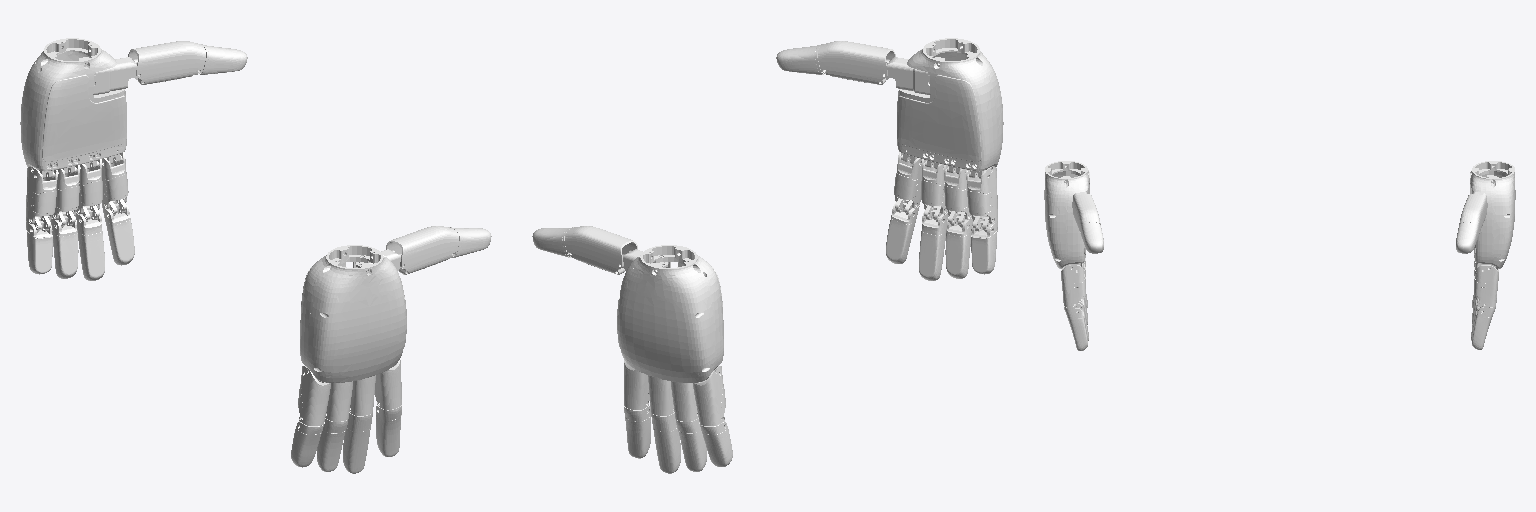
--- Render facts (derived) ---
Views: 3 orthographic renders of the robot side by side, from view 1: azimuth 30°, elevation 25°; view 2: azimuth 150°, elevation 25°; view 3: azimuth 270°, elevation 25°.
Robot: GR1T1_fourier_hand_12dof — 73 links, 72 joints (56 revolute, 16 fixed); root link base_link; default pose: all joints at 0.
Visible links, largest first — view 1: R_hand_base_link, L_hand_base_link, L_thumb_proximal_pitch_link, R_thumb_proximal_pitch_link, L_middle_intermediate_link, L_ring_intermediate_link, L_index_intermediate_link, R_pinky_proximal_link, L_pinky_proximal_link, R_middle_intermediate_link, L_pinky_intermediate_link, R_ring_intermediate_link (+11 smaller); view 2: L_hand_base_link, R_hand_base_link, R_thumb_proximal_pitch_link, L_thumb_proximal_pitch_link, R_middle_intermediate_link, R_ring_intermediate_link, R_index_intermediate_link, L_pinky_proximal_link, R_pinky_proximal_link, L_middle_intermediate_link, R_pinky_intermediate_link, L_index_intermediate_link (+11 smaller); view 3: L_hand_base_link, R_hand_base_link, R_index_proximal_link, L_index_proximal_link, R_index_intermediate_link, L_index_intermediate_link, R_thumb_proximal_pitch_link, L_thumb_proximal_pitch_link, R_thumb_distal_link, L_thumb_distal_link.
Link boxes in pixels (bbox=[...]): R_hand_base_link: bbox=[300, 245, 406, 382]; L_hand_base_link: bbox=[20, 38, 126, 178]; L_thumb_proximal_pitch_link: bbox=[128, 41, 205, 84]; R_thumb_proximal_pitch_link: bbox=[386, 226, 458, 274]; L_middle_intermediate_link: bbox=[75, 205, 104, 280]; L_ring_intermediate_link: bbox=[51, 211, 78, 278]; L_index_intermediate_link: bbox=[102, 199, 134, 265]; R_pinky_proximal_link: bbox=[298, 366, 330, 425]; L_pinky_proximal_link: bbox=[26, 166, 57, 223]; R_middle_intermediate_link: bbox=[343, 412, 372, 473]; L_pinky_intermediate_link: bbox=[26, 216, 52, 274]; R_ring_intermediate_link: bbox=[317, 418, 347, 471]; L_hand_base_link: bbox=[617, 245, 723, 382]; R_hand_base_link: bbox=[897, 38, 1003, 178]; R_thumb_proximal_pitch_link: bbox=[818, 41, 895, 84]; L_thumb_proximal_pitch_link: bbox=[565, 226, 637, 274]; R_middle_intermediate_link: bbox=[919, 205, 948, 280]; R_ring_intermediate_link: bbox=[945, 211, 972, 278]; R_index_intermediate_link: bbox=[886, 198, 919, 263]; L_pinky_proximal_link: bbox=[693, 366, 725, 425]; R_pinky_proximal_link: bbox=[966, 166, 997, 223]; L_middle_intermediate_link: bbox=[651, 412, 680, 473]; R_pinky_intermediate_link: bbox=[971, 216, 997, 274]; L_index_intermediate_link: bbox=[624, 405, 650, 458]; L_hand_base_link: bbox=[1470, 161, 1515, 268]; R_hand_base_link: bbox=[1044, 161, 1089, 268]; R_index_proximal_link: bbox=[1061, 263, 1085, 307]; L_index_proximal_link: bbox=[1474, 263, 1498, 307]; R_index_intermediate_link: bbox=[1064, 301, 1087, 350]; L_index_intermediate_link: bbox=[1472, 300, 1495, 349]; R_thumb_proximal_pitch_link: bbox=[1072, 194, 1100, 233]; L_thumb_proximal_pitch_link: bbox=[1459, 194, 1487, 233]; R_thumb_distal_link: bbox=[1081, 221, 1103, 253]; L_thumb_distal_link: bbox=[1456, 221, 1478, 253].
Bounding box of the posed robot: 0.1911 × 0.5014 × 0.2001 m (x, y, z).
Meshes: 61 distinct files referenced, 26 mesh visuals loaded (26 binary STL); not drawn: 35 (file found but could not be loaded).

robot.urdf — GR1T1_fourier_hand_12dof:
<?xml version="1.0" encoding="utf-8"?>

<!-- 02282025-alpha-1 -->

<robot
  name="GR1T1_fourier_hand_12dof">
  <link
    name="base_link">
    <inertial>
      <origin
        xyz="-0.06584 -9.765E-5 -0.01434"
        rpy="0 0 0" />
      <mass
        value="3.84" />
      <inertia
        ixx="0.03190"
        ixy="-3.35E-6"
        ixz="-0.001722"
        iyy="0.01048"
        iyz="-1.394E-5"
        izz="0.03496" />
    </inertial>
    <visual>
      <origin
        xyz="0 0 0"
        rpy="0 0 0" />
      <geometry>
        <mesh
          filename="../meshes/gr1t1/base_link.STL" />
      </geometry>
      <material
        name="">
        <color
          rgba="0.752941176470588 0.752941176470588 0.752941176470588 1" />
      </material>
    </visual>
    <collision name="base_link.STL">
      <origin xyz="-0.0425828586396115 0.0003700415157537537 0.009210089875386126" rpy="-1.5715560967510487 0.006752722386712318 -0.006757854813246755"/>
      <geometry>
        <cylinder radius="0.12239433188500067" length="0.1371007021179978"/>
      </geometry>
    </collision>
  </link>
  <link
    name="left_thigh_roll_link">
    <inertial>
      <origin
        xyz="-0.0327 9.169E-5 0.002323"
        rpy="0 0 0" />
      <mass
        value="1.45" />
      <inertia
        ixx="0.001545"
        ixy="8.2E-7"
        ixz="-2.999E-5"
        iyy="0.002427"
        iyz="-7.46E-6"
        izz="0.002505" />
    </inertial>
    <visual>
      <origin
        xyz="0 0 0"
        rpy="0 0 0" />
      <geometry>
        <mesh
          filename="../meshes/gr1t1/left_thigh_roll_link.STL" />
      </geometry>
      <material
        name="">
        <color
          rgba="0.752941176470588 0.752941176470588 0.752941176470588 1" />
      </material>
    </visual>
    <!-- <collision>
      <origin
        xyz="0 0 0"
        rpy="0 0 0" />
      <geometry>
        <mesh
          filename="../meshes/gr1t1/left_thigh_roll_link.STL" />
      </geometry>
    </collision> -->
  </link>
  <joint
    name="left_hip_roll_joint"
    type="revolute">
    <origin
      xyz="-0.0025 0.105 -0.0276"
      rpy="0 0 0" />
    <parent
      link="base_link" />
    <child
      link="left_thigh_roll_link" />
    <axis
      xyz="1 0 0" />
    <limit
      lower="-0.09"
      upper="0.79"
      effort="48"
      velocity="12.15" />
  </joint>
  <link
    name="left_thigh_yaw_link">
    <inertial>
      <origin
        xyz="-0.00019288 0.03547 -0.1073"
        rpy="0 0 0" />
      <mass
        value="3.17" />
      <inertia
        ixx="0.01555"
        ixy="-0.0001138"
        ixz="0.0001964"
        iyy="0.01777"
        iyz="0.003461"
        izz="0.006507" />
    </inertial>
    <visual>
      <origin
        xyz="0 0 0"
        rpy="0 0 0" />
      <geometry>
        <mesh
          filename="../meshes/gr1t1/left_thigh_yaw_link.STL" />
      </geometry>
      <material
        name="">
        <color
          rgba="0.752941176470588 0.752941176470588 0.752941176470588 1" />
      </material>
    </visual>
    <!-- <collision>
      <origin
        xyz="0 0 0"
        rpy="0 0 0" />
      <geometry>
        <mesh
          filename="../meshes/gr1t1/left_thigh_yaw_link.STL" />
      </geometry>
    </collision> -->
  </link>
  <joint
    name="left_hip_yaw_joint"
    type="revolute">
    <origin
      xyz="0 0 0"
      rpy="0 0 0" />
    <parent
      link="left_thigh_roll_link" />
    <child
      link="left_thigh_yaw_link" />
    <axis
      xyz="0 0 1" />
    <limit
      lower="-0.7"
      upper="0.7"
      effort="66"
      velocity="16.76" />
  </joint>
  <link
    name="left_thigh_pitch_link">
    <inertial>
      <origin
        xyz="0.001419 -0.02869 -0.05999"
        rpy="0 0 0" />
      <mass
        value="7.99" />
      <inertia
        ixx="0.07222"
        ixy="-7.201e-5"
        ixz="0.001533"
        iyy="0.07244"
        iyz="-0.003014"
        izz="0.02139" />
    </inertial>
    <visual>
      <origin
        xyz="0 0 0"
        rpy="0 0 0" />
      <geometry>
        <mesh
          filename="../meshes/gr1t1/left_thigh_pitch_link.STL" />
      </geometry>
      <material
        name="">
        <color
          rgba="0.752941176470588 0.752941176470588 0.752941176470588 1" />
      </material>
    </visual>
    <collision name="left_thigh_pitch_link.STL">
      <origin xyz="0.0007000513673618543 -0.03015965784976181 -0.1670560397414535" rpy="0 0 0 "/>
      <geometry>
        <cylinder radius="0.08587689590118133" length="0.24982894507630515"/>
      </geometry>
    </collision>
  </link>
  <joint
    name="left_hip_pitch_joint"
    type="revolute">
    <origin
      xyz="0 0.0223 -0.1405"
      rpy="0 0 0" />
    <parent
      link="left_thigh_yaw_link" />
    <child
      link="left_thigh_pitch_link" />
    <axis
      xyz="0 1 0" />
    <limit
      lower="-1.75"
      upper="0.7"
      effort="225"
      velocity="37.38" />
  </joint>
  <link
    name="left_shank_pitch_link">
    <inertial>
      <origin
        xyz="0.001724 -3.024E-5 -0.1128"
        rpy="0 0 0" />
      <mass
        value="1.93" />
      <inertia
        ixx="0.009915"
        ixy="-2.24E-6"
        ixz="-1.716E-5"
        iyy="0.009913"
        iyz="-0.0001199"
        izz="0.0009499" />
    </inertial>
    <visual>
      <origin
        xyz="0 0 0"
        rpy="0 0 0" />
      <geometry>
        <mesh
          filename="../meshes/gr1t1/left_shank_pitch_link.STL" />
      </geometry>
      <material
        name="">
        <color
          rgba="0.752941176470588 0.752941176470588 0.752941176470588 1" />
      </material>
    </visual>
    <collision name="left_shank_pitch_link.STL">
      <origin xyz="-1.659010853856773e-05 -0.000842546786771745 -0.17469107292397335" rpy="-3.1410836913690487 0.0024586308191354433 -2.733338485212507"/>
      <geometry>
        <cylinder radius="0.05332138187428352" length="0.18076995129198576"/>
      </geometry>
    </collision>
  </link>
  <joint
    name="left_knee_pitch_joint"
    type="revolute">
    <origin
      xyz="0 -0.0213 -0.36"
      rpy="0 0 0" />
    <parent
      link="left_thigh_pitch_link" />
    <child
      link="left_shank_pitch_link" />
    <axis
      xyz="0 1 0" />
    <limit
      lower="-0.09"
      upper="1.92"
      effort="225"
      velocity="37.38" />
  </joint>
  <link
    name="left_foot_pitch_link">
    <inertial>
      <origin
        xyz="0.0284 0.00121 -0.0293"
        rpy="0 0 0" />
      <mass
        value="0.538" />
      <inertia
        ixx="0.000394"
        ixy="-9.64E-6"
        ixz="0.000173"
        iyy="0.00232"
        iyz="4.36E-6"
        izz="0.002474" />
    </inertial>
    <visual>
      <origin
        xyz="0 0 0"
        rpy="0 0 0" />
      <geometry>
        <mesh
          filename="../meshes/gr1t1/left_foot_pitch_link.STL" />
      </geometry>
      <material
        name="">
        <color
          rgba="0.752941176470588 0.752941176470588 0.752941176470588 1" />
      </material>
    </visual>
    <!-- <collision>
      <origin
        xyz="0 0 0"
        rpy="0 0 0" />
      <geometry>
        <mesh
          filename="../meshes/gr1t1/left_foot_pitch_link.STL" />
      </geometry>
    </collision> -->
  </link>
  <joint
    name="left_ankle_pitch_joint"
    type="revolute">
    <origin
      xyz="0 0 -0.34"
      rpy="0 0 0" />
    <parent
      link="left_shank_pitch_link" />
    <child
      link="left_foot_pitch_link" />
    <axis
      xyz="0 1 0" />
    <limit
      lower="-1.05"
      upper="0.52"
      effort="15"
      velocity="20.32" />
  </joint>
  <link
    name="left_foot_roll_link">
    <inertial>
      <origin
        xyz="0.0284 0.00121 -0.0293"
        rpy="0 0 0" />
      <mass
        value="0.538" />
      <inertia
        ixx="0.000394"
        ixy="-9.64E-6"
        ixz="0.000173"
        iyy="0.00232"
        iyz="4.36E-6"
        izz="0.002474" />
    </inertial>
    <visual>
      <origin
        xyz="0 0 0"
        rpy="0 0 0" />
      <geometry>
        <mesh
          filename="../meshes/gr1t1/left_foot_roll_link.STL" />
      </geometry>
      <material
        name="">
        <color
          rgba="0.752941176470588 0.752941176470588 0.752941176470588 1" />
      </material>
    </visual>
    <collision name="l_foot_1">
      <origin rpy="0 1.5708 0" xyz="0.05 0.02 -0.035" />
      <geometry>
        <cylinder length="0.24" radius="0.02" />
      </geometry>
    </collision>
    <collision name="l_foot_2">
      <origin rpy="0 1.5708 0" xyz="0.05 -0.02 -0.035" />
      <geometry>
        <cylinder length="0.24" radius="0.02" />
      </geometry>
    </collision>
  </link>
  <joint
    name="left_ankle_roll_joint"
    type="revolute">
    <origin
      xyz="0 0 0"
      rpy="0 0 0" />
    <parent
      link="left_foot_pitch_link" />
    <child
      link="left_foot_roll_link" />
    <axis
      xyz="1 0 0" />
    <limit
      lower="-0.44"
      upper="0.44"
      effort="30"
      velocity="20.32" />
  </joint>
  <link
    name="right_thigh_roll_link">
    <inertial>
      <origin
        xyz="-0.0325 -7.432E-5 0.002322"
        rpy="0 0 0" />
      <mass
        value="1.45" />
      <inertia
        ixx="0.001545"
        ixy="8.68E-6"
        ixz="-3.071E-5"
        iyy="0.002445"
        iyz="7.47E-6"
        izz="0.002523" />
    </inertial>
    <visual>
      <origin
        xyz="0 0 0"
        rpy="0 0 0" />
      <geometry>
        <mesh
          filename="../meshes/gr1t1/right_thigh_roll_link.STL" />
      </geometry>
      <material
        name="">
        <color
          rgba="0.752941176470588 0.752941176470588 0.752941176470588 1" />
      </material>
    </visual>
    <!-- <collision>
      <origin
        xyz="0 0 0"
        rpy="0 0 0" />
      <geometry>
        <mesh
          filename="../meshes/gr1t1/right_thigh_roll_link.STL" />
      </geometry>
    </collision> -->
  </link>
  <joint
    name="right_hip_roll_joint"
    type="revolute">
    <origin
      xyz="-0.0025 -0.105 -0.0276"
      rpy="0 0 0" />
    <parent
      link="base_link" />
    <child
      link="right_thigh_roll_link" />
    <axis
      xyz="1 0 0" />
    <limit
      lower="-0.79"
      upper="0.09"
      effort="48"
      velocity="12.15" />
  </joint>
  <link
    name="right_thigh_yaw_link">
    <inertial>
      <origin
        xyz="-0.0001289 -0.03547 -0.1132"
        rpy="0 0 0" />
      <mass
        value="3.17" />
      <inertia
        ixx="0.01555"
        ixy="8.397E-5"
        ixz="5.579E-5"
        iyy="0.01777"
        iyz="-0.003462"
        izz="0.006503" />
    </inertial>
    <visual>
      <origin
        xyz="0 0 0"
        rpy="0 0 0" />
      <geometry>
        <mesh
          filename="../meshes/gr1t1/right_thigh_yaw_link.STL" />
      </geometry>
      <material
        name="">
        <color
          rgba="0.752941176470588 0.752941176470588 0.752941176470588 1" />
      </material>
    </visual>
    <!-- <collision>
      <origin
        xyz="0 0 0"
        rpy="0 0 0" />
      <geometry>
        <mesh
          filename="../meshes/gr1t1/right_thigh_yaw_link.STL" />
      </geometry>
    </collision> -->
  </link>
  <joint
    name="right_hip_yaw_joint"
    type="revolute">
    <origin
      xyz="0 0 0"
      rpy="0 0 0" />
    <parent
      link="right_thigh_roll_link" />
    <child
      link="right_thigh_yaw_link" />
    <axis
      xyz="0 0 1" />
    <limit
      lower="-0.7"
      upper="0.7"
      effort="66"
      velocity="16.76" />
  </joint>
  <link
    name="right_thigh_pitch_link">
    <inertial>
      <origin
        xyz="0.00151 0.02868 -0.0598"
        rpy="0 0 0" />
      <mass
        value="7.99" />
      <inertia
        ixx="0.07228"
        ixy="5.837E-5"
        ixz="0.001505"
        iyy="0.07250"
        iyz="0.002950"
        izz="0.0214" />
    </inertial>
    <visual>
      <origin
        xyz="0 0 0"
        rpy="0 0 0" />
      <geometry>
        <mesh
          filename="../meshes/gr1t1/right_thigh_pitch_link.STL" />
      </geometry>
      <material
        name="">
        <color
          rgba="0.752941176470588 0.752941176470588 0.752941176470588 1" />
      </material>
    </visual>
    <collision name="right_thigh_pitch_link.STL">
      <origin xyz="-0.0021232671369708286 0.0301596122658223 -0.16705638592" rpy="0.005397062281218166 0.014125499755146664 3.8118827309907216e-05"/>
      <geometry>
        <cylinder radius="0.0858779947877418" length="0.24982123520352716"/>
      </geometry>
    </collision>
  </link>
  <joint
    name="right_hip_pitch_joint"
    type="revolute">
    <origin
      xyz="0 -0.0223 -0.1405"
      rpy="0 0 0" />
    <parent
      link="right_thigh_yaw_link" />
    <child
      link="right_thigh_pitch_link" />
    <axis
      xyz="0 1 0" />
    <limit
      lower="-1.75"
      upper="0.7"
      effort="225"
      velocity="37.38" />
  </joint>
  <link
    name="right_shank_pitch_link">
    <inertial>
      <origin
        xyz="0.00172 3.024E-5 -0.1128"
        rpy="0 0 0" />
      <mass
        value="1.93" />
      <inertia
        ixx="0.009905"
        ixy="2.58E-6"
        ixz="-5.473E-5"
        iyy="0.009913"
        iyz="0.0001198"
        izz="0.0009603" />
    </inertial>
    <visual>
      <origin
        xyz="0 0 0"
        rpy="0 0 0" />
      <geometry>
        <mesh
          filename="../meshes/gr1t1/right_shank_pitch_link.STL" />
      </geometry>
      <material
        name="">
        <color
          rgba="0.752941176470588 0.752941176470588 0.752941176470588 1" />
      </material>
    </visual>
    <collision name="right_shank_pitch_link.STL">
      <origin xyz="-1.6590107921902e-5 -0.000842557381796573 -0.17469872467626" rpy="0 0 0"/>
      <geometry>
        <cylinder radius="0.053321055277056" length="0.180768239886"/>
      </geometry>
    </collision>
  </link>
  <joint
    name="right_knee_pitch_joint"
    type="revolute">
    <origin
      xyz="0 0.0213 -0.36"
      rpy="0 0 0" />
    <parent
      link="right_thigh_pitch_link" />
    <child
      link="right_shank_pitch_link" />
    <axis
      xyz="0 1 0" />
    <limit
      lower="-0.09"
      upper="1.92"
      effort="225"
      velocity="37.38" />
  </joint>
  <link
    name="right_foot_pitch_link">
    <inertial>
      <origin
        xyz="0.0284 -0.00121 -0.0293"
        rpy="0 0 0" />
      <mass
        value="0.538" />
      <inertia
        ixx="0.000394"
        ixy="9.6E-6"
        ixz="0.000173"
        iyy="0.00232"
        iyz="-4.36E-6"
        izz="0.00247" />
    </inertial>
    <visual>
      <origin
        xyz="0 0 0"
        rpy="0 0 0" />
      <geometry>
        <mesh
          filename="../meshes/gr1t1/right_foot_pitch_link.STL" />
      </geometry>
      <material
        name="">
        <color
          rgba="0.752941176470588 0.752941176470588 0.752941176470588 1" />
      </material>
    </visual>
    <!-- <collision>
      <origin
        xyz="0 0 0"
        rpy="0 0 0" />
      <geometry>
        <mesh
          filename="../meshes/gr1t1/right_foot_pitch_link.STL" />
      </geometry>
    </collision> -->
  </link>
  <joint
    name="right_ankle_pitch_joint"
    type="revolute">
    <origin
      xyz="0 0 -0.34"
      rpy="0 0 0" />
    <parent
      link="right_shank_pitch_link" />
    <child
      link="right_foot_pitch_link" />
    <axis
      xyz="0 1 0" />
    <limit
      lower="-1.05"
      upper="0.52"
      effort="15"
      velocity="20.32" />
  </joint>
  <link
    name="right_foot_roll_link">
    <inertial>
      <origin
        xyz="0.0284 -0.00121 -0.0293"
        rpy="0 0 0" />
      <mass
        value="0.538" />
      <inertia
        ixx="0.000394"
        ixy="9.6E-6"
        ixz="0.000173"
        iyy="0.00232"
        iyz="-4.36E-6"
        izz="0.00247" />
    </inertial>
    <visual>
      <origin
        xyz="0 0 0"
        rpy="0 0 0" />
      <geometry>
        <mesh
          filename="../meshes/gr1t1/right_foot_roll_link.STL" />
      </geometry>
      <material
        name="">
        <color
          rgba="0.752941176470588 0.752941176470588 0.752941176470588 1" />
      </material>
    </visual>
    <collision name="r_foot_1">
      <origin rpy="0 1.5708 0" xyz="0.05 0.02 -0.035" />
      <geometry>
        <cylinder length="0.24" radius="0.02" />
      </geometry>
    </collision>
    <collision name="r_foot_2">
      <origin rpy="0 1.5708 0" xyz="0.05 -0.02 -0.035" />
      <geometry>
        <cylinder length="0.24" radius="0.02" />
      </geometry>
    </collision>
  </link>
  <joint
    name="right_ankle_roll_joint"
    type="revolute">
    <origin
      xyz="0 0 0"
      rpy="0 0 0" />
    <parent
      link="right_foot_pitch_link" />
    <child
      link="right_foot_roll_link" />
    <axis
      xyz="1 0 0" />
    <limit
      lower="-0.44"
      upper="0.44"
      effort="30"
      velocity="20.32" />
  </joint>
  <link
    name="waist_yaw_link">
    <inertial>
      <origin
        xyz="-0.002641 -0.009332 0.05066"
        rpy="0 0 0" />
      <mass
        value="1.49" />
      <inertia
        ixx="0.00302"
        ixy="3.832E-5"
        ixz="1.016E-5"
        iyy="0.002711"
        iyz="0.0005105"
        izz="0.001679" />
    </inertial>
    <visual>
      <origin
        xyz="0 0 0"
        rpy="0 0 0" />
      <geometry>
        <mesh
          filename="../meshes/gr1t1/waist_yaw_link.STL" />
      </geometry>
      <material
        name="">
        <color
          rgba="0.752941176470588 0.752941176470588 0.752941176470588 1" />
      </material>
    </visual>
    <!-- <collision>
      <origin
        xyz="0 0 0"
        rpy="0 0 0" />
      <geometry>
        <mesh
          filename="../meshes/gr1t1/waist_yaw_link.STL" />
      </geometry>
    </collision> -->
  </link>
  <joint
    name="waist_yaw_joint"
    type="revolute">
    <origin
      xyz="0 0 0"
      rpy="0 0 0" />
    <parent
      link="base_link" />
    <child
      link="waist_yaw_link" />
    <axis
      xyz="0 0 1" />
    <limit
      lower="-1.05"
      upper="1.05"
      effort="66"
      velocity="16.76" />
  </joint>
  <link
    name="waist_pitch_link">
    <inertial>
      <origin
        xyz="0.00451 -0.00439 0.0406"
        rpy="0 0 0" />
      <mass
        value="1.62" />
      <inertia
        ixx="0.00456"
        ixy="-2.99E-5"
        ixz="-0.0002541"
        iyy="0.004563"
        iyz="-0.0002748"
        izz="0.001855" />
    </inertial>
    <visual>
      <origin
        xyz="0 0 0"
        rpy="0 0 0" />
      <geometry>
        <mesh
          filename="../meshes/gr1t1/waist_pitch_link.STL" />
      </geometry>
      <material
        name="">
        <color
          rgba="0.752941176470588 0.752941176470588 0.752941176470588 1" />
      </material>
    </visual>
    <!-- <collision>
      <origin
        xyz="0 0 0"
        rpy="0 0 0" />
      <geometry>
        <mesh
          filename="../meshes/gr1t1/waist_pitch_link.STL" />
      </geometry>
    </collision> -->
  </link>
  <joint
    name="waist_pitch_joint"
    type="revolute">
    <origin
      xyz="0 0 0.0873"
      rpy="0 0 0" />
    <parent
      link="waist_yaw_link" />
    <child
      link="waist_pitch_link" />
    <axis
      xyz="0 1 0" />
    <limit
      lower="-0.52"
      upper="1.22"
      effort="66"
      velocity="16.76" />
  </joint>
  <link
    name="waist_roll_link">
    <inertial>
      <origin
        xyz="0.01038 -1.48E-6 0.01312"
        rpy="0 0 0" />
      <mass
        value="0.91" />
      <inertia
        ixx="0.001"
        ixy="-1E-8"
        ixz="0.0001508"
        iyy="0.001226"
        iyz="8E-8"
        izz="0.001087" />
    </inertial>
    <visual>
      <origin
        xyz="0 0 0"
        rpy="0 0 0" />
      <geometry>
        <mesh
          filename="../meshes/gr1t1/waist_roll_link.STL" />
      </geometry>
      <material
        name="">
        <color
          rgba="0.752941176470588 0.752941176470588 0.752941176470588 1" />
      </material>
    </visual>
    <!-- <collision>
      <origin
        xyz="0 0 0"
        rpy="0 0 0" />
      <geometry>
        <mesh
          filename="../meshes/gr1t1/waist_roll_link.STL" />
      </geometry>
    </collision> -->
  </link>
  <joint
    name="waist_roll_joint"
    type="revolute">
    <origin
      xyz="0 0 0.081"
      rpy="0 0 0" />
    <parent
      link="waist_pitch_link" />
    <child
      link="waist_roll_link" />
    <axis
      xyz="1 0 0" />
    <limit
      lower="-0.7"
      upper="0.7"
      effort="66"
      velocity="16.76" />
  </joint>
  <link
    name="torso_link">
    <inertial>
      <origin
        xyz="-0.00667 0.0001533 0.01837"
        rpy="0 0 0" />
      <mass
        value="6.40" />
      <inertia
        ixx="0.04162"
        ixy="2.011E-5"
        ixz="-0.001691"
        iyy="0.03127"
        iyz="1.097E-5"
        izz="0.02553" />
    </inertial>
    <visual>
      <origin
        xyz="0 0 0"
        rpy="0 0 0" />
      <geometry>
        <mesh
          filename="../meshes/gr1t1/torso_link.STL" />
      </geometry>
      <material
        name="">
        <color
          rgba="0.752941176470588 0.752941176470588 0.752941176470588 1" />
      </material>
    </visual>
    <collision name="torso_link.STL">
      <origin xyz="-0.0158159258618006 0.005195369607133852 -0.01252051000214107" rpy="0 0 0"/>
      <geometry>
        <cylinder radius="0.12742740516179015" length="0.1603859984881334"/>
      </geometry>
    </collision>
  </link>
  <joint
    name="torso_joint"
    type="fixed">
    <origin
      xyz="-0.00414 0 0.16071"
      rpy="0 0 0" />
    <parent
      link="waist_roll_link" />
    <child
      link="torso_link" />
    <axis
      xyz="0 0 0" />
  </joint>
  <link
    name="left_upper_arm_pitch_link">
    <inertial>
      <origin
        xyz="0.00323 0.05324 0.000192"
        rpy="0 0 0" />
      <mass
        value="0.81" />
      <inertia
        ixx="0.002024"
        ixy="-9.67E-5"
        ixz="-4.2E-7"
        iyy="0.0005"
        iyz="1.71E-6"
        izz="0.001957" />
    </inertial>
    <visual>
      <origin
        xyz="0 0 0"
        rpy="0 0 0" />
      <geometry>
        <mesh
          filename="../meshes/gr1t1/left_upper_arm_pitch_link.STL" />
      </geometry>
      <material
        name="">
        <color
          rgba="0.752941176470588 0.752941176470588 0.752941176470588 1" />
      </material>
    </visual>
    <!-- <collision>
      <origin
        xyz="0 0 0"
        rpy="0 0 0" />
      <geometry>
        <mesh
          filename="../meshes/gr1t1/left_upper_arm_pitch_link.STL" />
      </geometry>
    </collision> -->
  </link>
  <joint
    name="left_shoulder_pitch_joint"
    type="revolute">
    <origin
      xyz="0 0.10111 0.047149"
      rpy="0.43633 0 0" />
    <parent
      link="torso_link" />
    <child
      link="left_upper_arm_pitch_link" />
    <axis
      xyz="0 1 0" />
    <limit
      lower="-2.79"
      upper="1.92"
      effort="38"
      velocity="9.11" />
  </joint>
  <link
    name="left_upper_arm_roll_link">
    <inertial>
      <origin
        xyz="0.003427 0.01466 -0.02316"
        rpy="0 0 0" />
      <mass
        value="0.5" />
      <inertia
        ixx="0.0008749"
        ixy="-1.593E-5"
        ixz="2.96E-6"
        iyy="0.0006958"
        iyz="0.0002863"
        izz="0.0004119" />
    </inertial>
    <visual>
      <origin
        xyz="0 0 0"
        rpy="0 0 0" />
      <geometry>
        <mesh
          filename="../meshes/gr1t1/left_upper_arm_roll_link.STL" />
      </geometry>
      <material
        name="">
        <color
          rgba="0.752941176470588 0.752941176470588 0.752941176470588 1" />
      </material>
    </visual>
    <!-- <collision>
      <origin
        xyz="0 0 0"
        rpy="0 0 0" />
      <geometry>
        <mesh
          filename="../meshes/gr1t1/left_upper_arm_roll_link.STL" />
      </geometry>
    </collision> -->
  </link>
  <joint
    name="left_shoulder_roll_joint"
    type="revolute">
    <origin
      xyz="0 0.09515 0"
      rpy="-0.43633 0 0" />
    <parent
      link="left_upper_arm_pitch_link" />
    <child
      link="left_upper_arm_roll_link" />
    <axis
      xyz="1 0 0" />
    <limit
      lower="-0.57"
      upper="3.27"
      effort="38"
      velocity="9.11" />
  </joint>
  <link
    name="left_upper_arm_yaw_link">
    <inertial>
      <origin
        xyz="5.47E-5 0.002013 -0.0852"
        rpy="0 0 0" />
      <mass
        value="0.55" />
      <inertia
        ixx="0.003544"
        ixy="-1.8E-7"
        ixz="-1.75E-6"
        iyy="0.003537"
        iyz="9.928E-5"
        izz="0.0002512" />
    </inertial>
    <visual>
      <origin
        xyz="0 0 0"
        rpy="0 0 0" />
      <geometry>
        <mesh
          filename="../meshes/gr1t1/left_upper_arm_yaw_link.STL" />
      </geometry>
      <material
        name="">
        <color
          rgba="0.752941176470588 0.752941176470588 0.752941176470588 1" />
      </material>
    </visual>
    <collision name="left_upper_arm_yaw_link.STL">
      <origin xyz="3.948544275722503e-05 -0.0008942898235348745 -0.079340036492981" rpy="-3.1255954464984725 0.0015124792767218231 -0.1885285227575202"/>
      <geometry>
        <cylinder radius="0.03623321337242011" length="0.1698839909625244"/>
      </geometry>
    </collision>
  </link>
  <joint
    name="left_shoulder_yaw_joint"
    type="revolute">
    <origin
      xyz="0 0.04 -0.07095"
      rpy="0 0 0" />
    <parent
      link="left_upper_arm_roll_link" />
    <child
      link="left_upper_arm_yaw_link" />
    <axis
      xyz="0 0 1" />
    <limit
      lower="-2.97"
      upper="2.97"
      effort="30"
      velocity="7.33" />
  </joint>
  <link
    name="left_lower_arm_pitch_link">
    <inertial>
      <origin
        xyz="3.31E-6 0.007846 -0.02549"
        rpy="0 0 0" />
      <mass
        value="0.32" />
      <inertia
        ixx="0.0002916"
        ixy="1E-8"
        ixz="-6E-8"
        iyy="0.0002848"
        iyz="-4.858E-5"
        izz="0.0001090" />
    </inertial>
    <visual>
      <origin
        xyz="0 0 0"
        rpy="0 0 0" />
      <geometry>
        <mesh
          filename="../meshes/gr1t1/left_lower_arm_pitch_link.STL" />
      </geometry>
      <material
        name="">
        <color
          rgba="0.752941176470588 0.752941176470588 0.752941176470588 1" />
      </material>
    </visual>
    <!-- <collision>
      <origin
        xyz="0 0 0"
        rpy="0 0 0" />
      <geometry>
        <mesh
          filename="../meshes/gr1t1/left_lower_arm_pitch_link.STL" />
      </geometry>
    </collision> -->
  </link>
  <joint
    name="left_elbow_pitch_joint"
    type="revolute">
    <origin
      xyz="0 0 -0.1751"
      rpy="0 0 0" />
    <parent
      link="left_upper_arm_yaw_link" />
    <child
      link="left_lower_arm_pitch_link" />
    <axis
      xyz="0 1 0" />
    <limit
      lower="-2.27"
      upper="2.27"
      effort="30"
      velocity="7.33" />
  </joint>
  <link
    name="left_hand_yaw_link">
    <inertial>
      <origin
        xyz="-2.923E-5 0.002124 -0.06117"
        rpy="0 0 0" />
      <mass
        value="0.89" />
      <inertia
        ixx="0.001867"
        ixy="3.1E-7"
        ixz="1.064E-5"
        iyy="0.001863"
        iyz="1.649E-5"
        izz="0.0003211" />
    </inertial>
    <visual>
      <origin
        xyz="0 0 0"
        rpy="0 0 0" />
      <geometry>
        <mesh
          filename="../meshes/gr1t1/left_hand_yaw_link.STL" />
      </geometry>
      <material
        name="">
        <color
          rgba="0.752941176470588 0.752941176470588 0.752941176470588 1" />
      </material>
    </visual>
    <collision name="left_hand_yaw_link.STL">
      <origin xyz="0.0010892501812804515 -0.0015411136604867 -0.07604285011805535" rpy="0 0 0"/>
      <geometry>
        <cylinder radius="0.04157192402358859" length="0.1391873595177893"/>
      </geometry>
    </collision>
  </link>
  <joint
    name="left_wrist_yaw_joint"
    type="revolute">
    <origin
      xyz="0 5.033E-05 -0.05395"
      rpy="0 0 0" />
    <parent
      link="left_lower_arm_pitch_link" />
    <child
      link="left_hand_yaw_link" />
    <axis
      xyz="0 0 1" />
    <limit
      lower="-2.97"
      upper="2.97"
      effort="10.2"
      velocity="24.4" />
  </joint>
  <link
    name="left_hand_roll_link">
    <inertial>
      <origin
        xyz="0 0.001292 -0.01174"
        rpy="0 0 0" />
      <mass
        value="0.02955" />
      <inertia
        ixx="5.38E-6"
        ixy="0"
        ixz="0"
        iyy="1E-5"
        iyz="-4.6E-7"
        izz="8.92E-6" />
    </inertial>
    <visual>
      <origin
        xyz="0 0 0"
        rpy="0 0 0" />
      <geometry>
        <mesh
          filename="../meshes/gr1t1/left_hand_roll_link.STL" />
      </geometry>
      <material
        name="">
        <color
          rgba="0.752941176470588 0.752941176470588 0.752941176470588 1" />
      </material>
    </visual>
    <!-- <collision>
      <origin
        xyz="0 0 0"
        rpy="0 0 0" />
      <geometry>
        <mesh
          filename="../meshes/gr1t1/left_hand_roll_link.STL" />
      </geometry>
    </collision> -->
  </link>
  <joint
    name="left_wrist_roll_joint"
    type="revolute">
    <origin
      xyz="0 0 -0.18765"
      rpy="0 0 0" />
    <parent
      link="left_hand_yaw_link" />
    <child
      link="left_hand_roll_link" />
    <axis
      xyz="1 0 0" />
    <limit
      lower="-0.87"
      upper="0.96"
      effort="3.95"
      velocity="27.96" />
  </joint>
  <link
    name="left_hand_pitch_link">
    <inertial>
      <origin
        xyz="0 0.001292 -0.01174"
        rpy="0 0 0" />
      <mass
        value="0.02955" />
      <inertia
        ixx="5.38E-6"
        ixy="0"
        ixz="0"
        iyy="1E-5"
        iyz="-4.6E-7"
        izz="8.92E-6" />
    </inertial>
    <visual>
      <origin
        xyz="0 0 0"
        rpy="0 0 0" />
      <geometry>
        <mesh
          filename="../meshes/gr1t1/left_hand_pitch_link.STL" />
      </geometry>
      <material
        name="">
        <color
          rgba="0.752941176470588 0.752941176470588 0.752941176470588 1" />
      </material>
    </visual>
    <!-- <collision>
      <origin
        xyz="0 0 0"
        rpy="0 0 0" />
      <geometry>
        <mesh
          filename="../meshes/gr1t1/left_hand_pitch_link.STL" />
      </geometry>
    </collision> -->
  </link>
  <joint
    name="left_wrist_pitch_joint"
    type="revolute">
    <origin
      xyz="0 0 0"
      rpy="0 0 0" />
    <parent
      link="left_hand_roll_link" />
    <child
      link="left_hand_pitch_link" />
    <axis
      xyz="0 1 0" />
    <limit
      lower="-0.61"
      upper="0.61"
      effort="3.95"
      velocity="27.96" />
  </joint>



  <link
    name="left_end_effector_link">
  </link>
  <joint
    name="left_end_effector_joint"
    type="fixed">
    <origin
      xyz="0 0 -0.023"
      rpy="0 0 0" />
    <parent
      link="left_hand_pitch_link" />
    <child
      link="left_end_effector_link" />
  </joint>



  <link
    name="L_hand_base_link">
    <inertial>
      <origin
        xyz="-0.0027 -0.009658 -0.044243"
        rpy="0 0 0" />
      <mass
        value="0.281" />
      <inertia
        ixx="0.000344"
        ixy="-3.26E-06"
        ixz="8.99E-06"
        iyy="0.000474"
        iyz="-1.063E-05"
        izz="0.000217" />
    </inertial>
    <visual>
      <origin
        xyz="0 0 0"
        rpy="0 0 0" />
      <geometry>
        <mesh
          filename="../meshes/fourier_hand_12dof/L_hand_base_link.STL" />
      </geometry>
      <material
        name="">
        <color
          rgba="1 1 1 1" />
      </material>
    </visual>
    <collision>
      <origin
        xyz="0 0 0"
        rpy="0 0 0" />
      <geometry>
        <mesh
          filename="../meshes/fourier_hand_12dof/L_hand_base_link.STL" />
      </geometry>
    </collision>
  </link>
  <joint
    name="L_hand_base_joint"
    type="fixed">
    <origin
      xyz="0 0 0"
      rpy="0 0 0" />
    <parent
      link="left_end_effector_link" />
    <child
      link="L_hand_base_link" />
    <axis
      xyz="0 0 0" />
  </joint>
  <link
    name="L_thumb_proximal_yaw_link">
    <inertial>
      <origin
        xyz="0.010856 -0.001425 0.000443"
        rpy="0 0 0" />
      <mass
        value="0.04" />
      <inertia
        ixx="4.48E-06"
        ixy="7E-07"
        ixz="-7.4E-07"
        iyy="7.55E-06"
        iyz="6E-8"
        izz="6.88E-06" />
    </inertial>
    <visual>
      <origin
        xyz="0 0 0"
        rpy="0 0 0" />
      <geometry>
        <mesh
          filename="../meshes/fourier_hand_12dof/L_thumb_proximal_yaw_link.STL" />
      </geometry>
      <material
        name="">
        <color
          rgba="1 1 1 1" />
      </material>
    </visual>
    <collision>
      <origin
        xyz="0 0 0"
        rpy="0 0 0" />
      <geometry>
        <mesh
          filename="../meshes/fourier_hand_12dof/L_thumb_proximal_yaw_link.STL" />
      </geometry>
    </collision>
  </link>
  <joint
    name="L_thumb_proximal_yaw_joint"
    type="revolute">
    <origin
      xyz="0.014 -0.012 -0.023196"
      rpy="0 0 0" />
    <parent
      link="L_hand_base_link" />
    <child
      link="L_thumb_proximal_yaw_link" />
    <axis
      xyz="0 0 1" />
    <limit
      lower="-1.4661"
      upper="0"
      effort="0"
      velocity="0" />
  </joint>
  <link
    name="L_thumb_proximal_pitch_link">
    <inertial>
      <origin
        xyz="0.026449 -0.000321 3.22E-06"
        rpy="0 0 0" />
      <mass
        value="0.0415" />
      <inertia
        ixx="5.76E-06"
        ixy="3.7e-7"
        ixz="0"
        iyy="1.33E-05"
        iyz="0"
        izz="1.39E-05" />
    </inertial>
    <visual>
      <origin
        xyz="0 0 0"
        rpy="0 0 0" />
      <geometry>
        <mesh
          filename="../meshes/fourier_hand_12dof/L_thumb_proximal_pitch_link.STL" />
      </geometry>
      <material
        name="">
        <color
          rgba="1 1 1 1" />
      </material>
    </visual>
    <collision>
      <origin
        xyz="0 0 0"
        rpy="0 0 0" />
      <geometry>
        <mesh
          filename="../meshes/fourier_hand_12dof/L_thumb_proximal_pitch_link.STL" />
      </geometry>
    </collision>
  </link>
  <joint
    name="L_thumb_proximal_pitch_joint"
    type="revolute">
    <origin
      xyz="0.034322 -0.0054361 0.001"
      rpy="-1.5708 0 -0.15708" />
    <parent
      link="L_thumb_proximal_yaw_link" />
    <child
      link="L_thumb_proximal_pitch_link" />
    <axis
      xyz="0 0 1" />
    <limit
      lower="0"
      upper="1.274"
      effort="0"
      velocity="0" />
  </joint>
  <link
    name="L_thumb_distal_link">
    <inertial>
      <origin
        xyz="0.0186 -0.00514 1.569E-05"
        rpy="0 0 0" />
      <mass
        value="0.0198" />
      <inertia
        ixx="1.15E-06"
        ixy="-6E-8"
        ixz="0"
        iyy="3.43E-06"
        iyz="0"
        izz="3.24E-06" />
    </inertial>
    <visual>
      <origin
        xyz="0 0 0"
        rpy="0 0 0" />
      <geometry>
        <mesh
          filename="../meshes/fourier_hand_12dof/L_thumb_distal_link.STL" />
      </geometry>
      <material
        name="">
        <color
          rgba="1 1 1 1" />
      </material>
    </visual>
    <collision>
      <origin
        xyz="0 0 0"
        rpy="0 0 0" />
      <geometry>
        <mesh
          filename="../meshes/fourier_hand_12dof/L_thumb_distal_link.STL" />
      </geometry>
    </collision>
  </link>
  <joint
    name="L_thumb_distal_joint"
    type="revolute">
    <origin
      xyz="0.05175 0.0050976 0"
      rpy="0 0 0.071635" />
    <parent
      link="L_thumb_proximal_pitch_link" />
    <child
      link="L_thumb_distal_link" />
    <axis
      xyz="0 0 1" />
    <limit
      lower="0"
      upper="1.3614"
      effort="0"
      velocity="0" />
  </joint>

  <link name="L_thumb_tip_link">
    <visual>
      <origin
        xyz="0 0 0"
        rpy="0 0 0" />
      <geometry>
        <sphere radius="0.005" />
      </geometry>
      <material name="yellow">
        <color rgba="0.9 1 0 1" />
      </material>
    </visual>
  </link>
  <joint name="L_thumb_tip_joint" type="fixed">
    <parent link="L_thumb_distal_link" />
    <child link="L_thumb_tip_link" />
    <origin rpy="0 0 0" xyz="0.035 -0.001 0" />
  </joint>


  <link
    name="L_index_metacarpal_link">
    <inertial>
      <origin
        xyz="-0.00912 0.00394 0"
        rpy="0 0 0" />
      <mass
        value="0.0321" />
      <inertia
        ixx="1.09E-06"
        ixy="1.85E-06"
        ixz="0"
        iyy="7.7E-06"
        iyz="0"
        izz="7.94E-06" />
    </inertial>
    <visual>
      <origin
        xyz="0 0 0"
        rpy="0 0 0" />
      <geometry>
        <mesh
          filename="../meshes/fourier_hand_12dof/L_index_metacarpal_link.STL" />
      </geometry>
      <material
        name="">
        <color
          rgba="1 1 1 1" />
      </material>
    </visual>
    <collision>
      <origin
        xyz="0 0 0"
        rpy="0 0 0" />
      <geometry>
        <mesh
          filename="../meshes/fourier_hand_12dof/L_index_metacarpal_link.STL" />
      </geometry>
    </collision>
  </link>
  <joint
    name="L_index_metacarpal_joint"
    type="revolute">
    <origin
      xyz="0.0305 -0.0118 -0.088496"
      rpy="3.1416 1.4946 0" />
    <parent
      link="L_hand_base_link" />
    <child
      link="L_index_metacarpal_link" />
    <axis
      xyz="0 1 0" />
    <limit
      lower="-0.0524"
      upper="0.2618"
      effort="0"
      velocity="0" />
  </joint>
  <link
    name="L_index_proximal_link">
    <inertial>
      <origin
        xyz="0.01736 0.0045 0"
        rpy="0 0 0" />
      <mass
        value="0.0358" />
      <inertia
        ixx="3.91E-06"
        ixy="-2.7E-7"
        ixz="0"
        iyy="7.43E-06"
        iyz="0"
        izz="7.77E-06" />
    </inertial>
    <visual>
      <origin
        xyz="0 0 0"
        rpy="0 0 0" />
      <geometry>
        <mesh
          filename="../meshes/fourier_hand_12dof/L_index_proximal_link.STL" />
      </geometry>
      <material
        name="">
        <color
          rgba="1 1 1 1" />
      </material>
    </visual>
    <collision>
      <origin
        xyz="0 0 0"
        rpy="0 0 0" />
      <geometry>
        <mesh
          filename="../meshes/fourier_hand_12dof/L_index_proximal_link.STL" />
      </geometry>
    </collision>
  </link>
  <joint
    name="L_index_proximal_joint"
    type="revolute">
    <origin
      xyz="0.012 -0.0005 0"
      rpy="3.1416 0 0" />
    <parent
      link="L_index_metacarpal_link" />
    <child
      link="L_index_proximal_link" />
    <axis
      xyz="0 0 1" />
    <limit
      lower="-1.5185"
      upper="0"
      effort="0"
      velocity="0" />
  </joint>
  <link
    name="L_index_intermediate_link">
    <inertial>
      <origin
        xyz="0.02243 0.002908 1.624e-5"
        rpy="0 0 0" />
      <mass
        value="0.0199" />
      <inertia
        ixx="8.4E-7"
        ixy="4E-8"
        ixz="1E-8"
        iyy="4.82E-6"
        iyz="0"
        izz="4.72E-6" />
    </inertial>
    <visual>
      <origin
        xyz="0 0 0"
        rpy="0 0 0" />
      <geometry>
        <mesh
          filename="../meshes/fourier_hand_12dof/L_index_intermediate_link.STL" />
      </geometry>
      <material
        name="">
        <color
          rgba="1 1 1 1" />
      </material>
    </visual>
    <collision>
      <origin
        xyz="0 0 0"
        rpy="0 0 0" />
      <geometry>
        <mesh
          filename="../meshes/fourier_hand_12dof/L_index_intermediate_link.STL" />
      </geometry>
    </collision>
  </link>
  <joint
    name="L_index_intermediate_joint"
    type="revolute">
    <origin
      xyz="0.038948 0.0020202 0"
      rpy="0 0 -0.19585" />
    <parent
      link="L_index_proximal_link" />
    <child
      link="L_index_intermediate_link" />
    <axis
      xyz="0 0 1" />
    <limit
      lower="-1.5708"
      upper="0"
      effort="0"
      velocity="0" />
  </joint>

  <link name="L_index_tip_link">
    <visual>
      <origin
        xyz="0 0 0"
        rpy="0 0 0" />
      <geometry>
        <sphere radius="0.005" />
      </geometry>
      <material name="yellow">
        <color rgba="0.9 1 0 1" />
      </material>
    </visual>
  </link>
  <joint name="L_index_tip_joint" type="fixed">
    <parent link="L_index_intermediate_link" />
    <child link="L_index_tip_link" />
    <origin rpy="0 0 0" xyz="0.047 0.001 0" />
  </joint>

  <link
    name="L_middle_proximal_link">
    <inertial>
      <origin
        xyz="0.017361 0.0045 0"
        rpy="0 0 0" />
      <mass
        value="0.0358" />
      <inertia
        ixx="3.91E-06"
        ixy="-2.7E-7"
        ixz="0"
        iyy="7.43E-06"
        iyz="0"
        izz="7.77E-06" />
    </inertial>
    <visual>
      <origin
        xyz="0 0 0"
        rpy="0 0 0" />
      <geometry>
        <mesh
          filename="../meshes/fourier_hand_12dof/L_middle_proximal_link.STL" />
      </geometry>
      <material
        name="">
        <color
          rgba="1 1 1 1" />
      </material>
    </visual>
    <collision>
      <origin
        xyz="0 0 0"
        rpy="0 0 0" />
      <geometry>
        <mesh
          filename="../meshes/fourier_hand_12dof/L_middle_proximal_link.STL" />
      </geometry>
    </collision>
  </link>
  <joint
    name="L_middle_proximal_joint"
    type="revolute">
    <origin
      xyz="0.0095 -0.0113 -0.10005"
      rpy="0 1.5708 0" />
    <parent
      link="L_hand_base_link" />
    <child
      link="L_middle_proximal_link" />
    <axis
      xyz="0 0 1" />
    <limit
      lower="-1.5185"
      upper="0"
      effort="0"
      velocity="0" />
  </joint>
  <link
    name="L_middle_intermediate_link">
    <inertial>
      <origin
        xyz="0.0247 0.00323 1.39E-5"
        rpy="0 0 0" />
      <mass
        value="0.0234" />
      <inertia
        ixx="1.01E-6"
        ixy="-4E-8"
        ixz="1E-8"
        iyy="6.94E-6"
        iyz="0"
        izz="6.82E-6" />
    </inertial>
    <visual>
      <origin
        xyz="0 0 0"
        rpy="0 0 0" />
      <geometry>
        <mesh
          filename="../meshes/fourier_hand_12dof/L_middle_intermediate_link.STL" />
      </geometry>
      <material
        name="">
        <color
          rgba="1 1 1 1" />
      </material>
    </visual>
    <collision>
      <origin
        xyz="0 0 0"
        rpy="0 0 0" />
      <geometry>
        <mesh
          filename="../meshes/fourier_hand_12dof/L_middle_intermediate_link.STL" />
      </geometry>
    </collision>
  </link>
  <joint
    name="L_middle_intermediate_joint"
    type="revolute">
    <origin
      xyz="0.038948 0.0020202 0"
      rpy="0 0 -0.19218" />
    <parent
      link="L_middle_proximal_link" />
    <child
      link="L_middle_intermediate_link" />
    <axis
      xyz="0 0 1" />
    <limit
      lower="-1.5708"
      upper="0"
      effort="0"
      velocity="0" />
  </joint>

  <link name="L_middle_tip_link">
    <visual>
      <origin
        xyz="0 0 0"
        rpy="0 0 0" />
      <geometry>
        <sphere radius="0.005" />
      </geometry>
      <material name="yellow">
        <color rgba="0.9 1 0 1" />
      </material>
    </visual>
  </link>
  <joint name="L_middle_tip_joint" type="fixed">
    <parent link="L_middle_intermediate_link" />
    <child link="L_middle_tip_link" />
    <origin rpy="0 0 0" xyz="0.055 0.0012 0" />
  </joint>


  <link
    name="L_ring_proximal_link">
    <inertial>
      <origin
        xyz="0.017361 0.0045 0"
        rpy="0 0 0" />
      <mass
        value="0.035778" />
      <inertia
        ixx="3.91E-06"
        ixy="-2.7E-7"
        ixz="0"
        iyy="7.4E-06"
        iyz="0"
        izz="7.7E-06" />
    </inertial>
    <visual>
      <origin
        xyz="0 0 0"
        rpy="0 0 0" />
      <geometry>
        <mesh
          filename="../meshes/fourier_hand_12dof/L_ring_proximal_link.STL" />
      </geometry>
      <material
        name="">
        <color
          rgba="1 1 1 1" />
      </material>
    </visual>
    <collision>
      <origin
        xyz="0 0 0"
        rpy="0 0 0" />
      <geometry>
        <mesh
          filename="../meshes/fourier_hand_12dof/L_ring_proximal_link.STL" />
      </geometry>
    </collision>
  </link>
  <joint
    name="L_ring_proximal_joint"
    type="revolute">
    <origin
      xyz="-0.010987 -0.0113 -0.10003"
      rpy="-3.1416 1.5184 -3.1416" />
    <parent
      link="L_hand_base_link" />
    <child
      link="L_ring_proximal_link" />
    <axis
      xyz="0 0 1" />
    <limit
      lower="-1.5185"
      upper="0"
      effort="0"
      velocity="0" />
  </joint>
  <link
    name="L_ring_intermediate_link">
    <inertial>
      <origin
        xyz="0.02243 0.002908 1.624E-5"
        rpy="0 0 0" />
      <mass
        value="0.0199" />
      <inertia
        ixx="8.4E-7"
        ixy="4E-8"
        ixz="1E-8"
        iyy="4.82E-6"
        iyz="0"
        izz="4.72E-6" />
    </inertial>
    <visual>
      <origin
        xyz="0 0 0"
        rpy="0 0 0" />
      <geometry>
        <mesh
          filename="../meshes/fourier_hand_12dof/L_ring_intermediate_link.STL" />
      </geometry>
      <material
        name="">
        <color
          rgba="1 1 1 1" />
      </material>
    </visual>
    <collision>
      <origin
        xyz="0 0 0"
        rpy="0 0 0" />
      <geometry>
        <mesh
          filename="../meshes/fourier_hand_12dof/L_ring_intermediate_link.STL" />
      </geometry>
    </collision>
  </link>
  <joint
    name="L_ring_intermediate_joint"
    type="revolute">
    <origin
      xyz="0.038948 0.0020202 0"
      rpy="0 0 -0.19585" />
    <parent
      link="L_ring_proximal_link" />
    <child
      link="L_ring_intermediate_link" />
    <axis
      xyz="0 0 1" />
    <limit
      lower="-1.5708"
      upper="0"
      effort="0"
      velocity="0" />
  </joint>

  <link name="L_ring_tip_link">
    <visual>
      <origin
        xyz="0 0 0"
        rpy="0 0 0" />
      <geometry>
        <sphere radius="0.005" />
      </geometry>
      <material name="green">
        <color rgba="0.9 1 0 1" />
      </material>
    </visual>
  </link>
  <joint name="L_ring_tip_joint" type="fixed">
    <parent link="L_ring_intermediate_link" />
    <child link="L_ring_tip_link" />
    <origin rpy="0 0 0" xyz="0.045 0.001 0" />
  </joint>


  <link
    name="L_pinky_proximal_link">
    <inertial>
      <origin
        xyz="0.017361 0.0045 0"
        rpy="0 0 0" />
      <mass
        value="0.0358" />
      <inertia
        ixx="3.91E-06"
        ixy="-2.7E-7"
        ixz="0"
        iyy="7.4E-06"
        iyz="0"
        izz="7.77E-06" />
    </inertial>
    <visual>
      <origin
        xyz="0 0 0"
        rpy="0 0 0" />
      <geometry>
        <mesh
          filename="../meshes/fourier_hand_12dof/L_pinky_proximal_link.STL" />
      </geometry>
      <material
        name="">
        <color
          rgba="1 1 1 1" />
      </material>
    </visual>
    <collision>
      <origin
        xyz="0 0 0"
        rpy="0 0 0" />
      <geometry>
        <mesh
          filename="../meshes/fourier_hand_12dof/L_pinky_proximal_link.STL" />
      </geometry>
    </collision>
  </link>
  <joint
    name="L_pinky_proximal_joint"
    type="revolute">
    <origin
      xyz="-0.031472 -0.0113 -0.099245"
      rpy="-3.1416 1.4661 -3.1416" />
    <parent
      link="L_hand_base_link" />
    <child
      link="L_pinky_proximal_link" />
    <axis
      xyz="0 0 1" />
    <limit
      lower="-1.5185"
      upper="0"
      effort="0"
      velocity="0" />
  </joint>
  <link
    name="L_pinky_intermediate_link">
    <inertial>
      <origin
        xyz="0.01875 0.00296 5.23E-6"
        rpy="0 0 0" />
      <mass
        value="0.00812" />
      <inertia
        ixx="6.7E-7"
        ixy="5E-8"
        ixz="1E-8"
        iyy="2.69E-06"
        iyz="0"
        izz="2.6E-06" />
    </inertial>
    <visual>
      <origin
        xyz="0 0 0"
        rpy="0 0 0" />
      <geometry>
        <mesh
          filename="../meshes/fourier_hand_12dof/L_pinky_intermediate_link.STL" />
      </geometry>
      <material
        name="">
        <color
          rgba="1 1 1 1" />
      </material>
    </visual>
    <collision>
      <origin
        xyz="0 0 0"
        rpy="0 0 0" />
      <geometry>
        <mesh
          filename="../meshes/fourier_hand_12dof/L_pinky_intermediate_link.STL" />
      </geometry>
    </collision>
  </link>
  <joint
    name="L_pinky_intermediate_joint"
    type="revolute">
    <origin
      xyz="0.038948 0.0020202 0"
      rpy="0 -0.0013299 -0.20067" />
    <parent
      link="L_pinky_proximal_link" />
    <child
      link="L_pinky_intermediate_link" />
    <axis
      xyz="0.0013299 0 1" />
    <limit
      lower="-1.5708"
      upper="0"
      effort="0"
      velocity="0" />
  </joint>

  <link name="L_pinky_tip_link">
    <visual>
      <origin
        xyz="0 0 0"
        rpy="0 0 0" />
      <geometry>
        <sphere radius="0.005" />
      </geometry>
      <material name="yellow">
        <color rgba="0.9 1 0 1" />
      </material>
    </visual>
  </link>
  <joint name="L_pinky_tip_joint" type="fixed">
    <parent link="L_pinky_intermediate_link" />
    <child link="L_pinky_tip_link" />
    <origin rpy="0 0 0" xyz="0.038 0.001 0" />
  </joint>



  <link
    name="right_upper_arm_pitch_link">
    <inertial>
      <origin
        xyz="0.00324 -0.0533 0.000185"
        rpy="0 0 0" />
      <mass
        value="0.81" />
      <inertia
        ixx="0.00203"
        ixy="0.000104"
        ixz="2.96E-7"
        iyy="0.000499"
        iyz="-1.1E-6"
        izz="0.001960" />
    </inertial>
    <visual>
      <origin
        xyz="0 0 0"
        rpy="0 0 0" />
      <geometry>
        <mesh
          filename="../meshes/gr1t1/right_upper_arm_pitch_link.STL" />
      </geometry>
      <material
        name="">
        <color
          rgba="0.752941176470588 0.752941176470588 0.752941176470588 1" />
      </material>
    </visual>
    <!-- <collision>
      <origin
        xyz="0 0 0"
        rpy="0 0 0" />
      <geometry>
        <mesh
          filename="../meshes/gr1t1/right_upper_arm_pitch_link.STL" />
      </geometry>
    </collision> -->
  </link>
  <joint
    name="right_shoulder_pitch_joint"
    type="revolute">
    <origin
      xyz="0 -0.10111 0.047149"
      rpy="-0.43633 0 0" />
    <parent
      link="torso_link" />
    <child
      link="right_upper_arm_pitch_link" />
    <axis
      xyz="0 1 0" />
    <limit
      lower="-2.79"
      upper="1.92"
      effort="38"
      velocity="9.11" />
  </joint>
  <link
    name="right_upper_arm_roll_link">
    <inertial>
      <origin
        xyz="0.00342 -0.0147 -0.0232"
        rpy="0 0 0" />
      <mass
        value="0.5" />
      <inertia
        ixx="0.000875"
        ixy="1.598E-5"
        ixz="2.96E-6"
        iyy="0.000696"
        iyz="-0.0002866"
        izz="0.0004121" />
    </inertial>
    <visual>
      <origin
        xyz="0 0 0"
        rpy="0 0 0" />
      <geometry>
        <mesh
          filename="../meshes/gr1t1/right_upper_arm_roll_link.STL" />
      </geometry>
      <material
        name="">
        <color
          rgba="0.752941176470588 0.752941176470588 0.752941176470588 1" />
      </material>
    </visual>
    <!-- <collision>
      <origin
        xyz="0 0 0"
        rpy="0 0 0" />
      <geometry>
        <mesh
          filename="../meshes/gr1t1/right_upper_arm_roll_link.STL" />
      </geometry>
    </collision> -->
  </link>
  <joint
    name="right_shoulder_roll_joint"
    type="revolute">
    <origin
      xyz="0 -0.09515 0"
      rpy="0.43633 0 0" />
    <parent
      link="right_upper_arm_pitch_link" />
    <child
      link="right_upper_arm_roll_link" />
    <axis
      xyz="1 0 0" />
    <limit
      lower="-3.27"
      upper="0.57"
      effort="38"
      velocity="9.11" />
  </joint>
  <link
    name="right_upper_arm_yaw_link">
    <inertial>
      <origin
        xyz="7.6E-5 -0.002032 -0.08519"
        rpy="0 0 0" />
      <mass
        value="0.55" />
      <inertia
        ixx="0.003543"
        ixy="-1.9E-7"
        ixz="-1.49E-6"
        iyy="0.003536"
        iyz="-9.89E-5"
        izz="0.0002512" />
    </inertial>
    <visual>
      <origin
        xyz="0 0 0"
        rpy="0 0 0" />
      <geometry>
        <mesh
          filename="../meshes/gr1t1/right_upper_arm_yaw_link.STL" />
      </geometry>
      <material
        name="">
        <color
          rgba="0.752941176470588 0.752941176470588 0.752941176470588 1" />
      </material>
    </visual>
    <collision name="right_upper_arm_yaw_link.STL">
      <origin xyz="3.948544275722503e-05 0.0008942898235348745 -0.079340036492981" rpy="0 0 0"/>
      <geometry>
        <cylinder radius="0.03623321337242011" length="0.1698839909625244"/>
      </geometry>
    </collision>
  </link>
  <joint
    name="right_shoulder_yaw_joint"
    type="revolute">
    <origin
      xyz="0 -0.04 -0.07095"
      rpy="0 0 0" />
    <parent
      link="right_upper_arm_roll_link" />
    <child
      link="right_upper_arm_yaw_link" />
    <axis
      xyz="0 0 1" />
    <limit
      lower="-2.97"
      upper="2.97"
      effort="30"
      velocity="7.33" />
  </joint>
  <link
    name="right_lower_arm_pitch_link">
    <inertial>
      <origin
        xyz="-1.69E-6 -0.007855 -0.02549"
        rpy="0 0 0" />
      <mass
        value="0.32" />
      <inertia
        ixx="0.0002914"
        ixy="2E-8"
        ixz="1E-8"
        iyy="0.0002847"
        iyz="4.85E-5"
        izz="0.000109" />
    </inertial>
    <visual>
      <origin
        xyz="0 0 0"
        rpy="0 0 0" />
      <geometry>
        <mesh
          filename="../meshes/gr1t1/right_lower_arm_pitch_link.STL" />
      </geometry>
      <material
        name="">
        <color
          rgba="0.752941176470588 0.752941176470588 0.752941176470588 1" />
      </material>
    </visual>
    <!-- <collision>
      <origin
        xyz="0 0 0"
        rpy="0 0 0" />
      <geometry>
        <mesh
          filename="../meshes/gr1t1/right_lower_arm_pitch_link.STL" />
      </geometry>
    </collision> -->
  </link>
  <joint
    name="right_elbow_pitch_joint"
    type="revolute">
    <origin
      xyz="0 0 -0.1751"
      rpy="0 0 0" />
    <parent
      link="right_upper_arm_yaw_link" />
    <child
      link="right_lower_arm_pitch_link" />
    <axis
      xyz="0 1 0" />
    <limit
      lower="-2.27"
      upper="2.27"
      effort="30"
      velocity="7.33" />
  </joint>
  <link
    name="right_hand_yaw_link">
    <inertial>
      <origin
        xyz="3.90E-5 -0.00212 -0.06117"
        rpy="0 0 0" />
      <mass
        value="0.89" />
      <inertia
        ixx="0.001866"
        ixy="3E-7"
        ixz="-1.091E-5"
        iyy="0.001862"
        iyz="-1.679E-5"
        izz="0.0003211" />
    </inertial>
    <visual>
      <origin
        xyz="0 0 0"
        rpy="0 0 0" />
      <geometry>
        <mesh
          filename="../meshes/gr1t1/right_hand_yaw_link.STL" />
      </geometry>
      <material
        name="">
        <color
          rgba="0.752941176470588 0.752941176470588 0.752941176470588 1" />
      </material>
    </visual>
    <collision name="right_hand_yaw_link.STL">
      <origin xyz="0.0010892501812804515 0.0006411136604867 -0.07604285011805535" rpy="0 0 0"/>
      <geometry>
        <cylinder radius="0.04157192402358859" length="0.1391873595177893"/>
      </geometry>
    </collision>
  </link>
  <joint
    name="right_wrist_yaw_joint"
    type="revolute">
    <origin
      xyz="0 -5.033E-05 -0.05395"
      rpy="0 0 0" />
    <parent
      link="right_lower_arm_pitch_link" />
    <child
      link="right_hand_yaw_link" />
    <axis
      xyz="0 0 1" />
    <limit
      lower="-2.97"
      upper="2.97"
      effort="10.2"
      velocity="24.4" />
  </joint>
  <link
    name="right_hand_roll_link">
    <inertial>
      <origin
        xyz="0 -0.00129 -0.0117"
        rpy="0 0 0" />
      <mass
        value="0.0295" />
      <inertia
        ixx="5.38E-6"
        ixy="0"
        ixz="0"
        iyy="1E-5"
        iyz="4.6E-7"
        izz="8.92E-6" />
    </inertial>
    <visual>
      <origin
        xyz="0 0 0"
        rpy="0 0 0" />
      <geometry>
        <mesh
          filename="../meshes/gr1t1/right_hand_roll_link.STL" />
      </geometry>
      <material
        name="">
        <color
          rgba="0.752941176470588 0.752941176470588 0.752941176470588 1" />
      </material>
    </visual>
    <!-- <collision>
      <origin
        xyz="0 0 0"
        rpy="0 0 0" />
      <geometry>
        <mesh
          filename="../meshes/gr1t1/right_hand_roll_link.STL" />
      </geometry>
    </collision> -->
  </link>
  <joint
    name="right_wrist_roll_joint"
    type="revolute">
    <origin
      xyz="0 0 -0.18765"
      rpy="0 0 0" />
    <parent
      link="right_hand_yaw_link" />
    <child
      link="right_hand_roll_link" />
    <axis
      xyz="1 0 0" />
    <limit
      lower="-0.96"
      upper="0.87"
      effort="3.95"
      velocity="27.96" />
  </joint>
  <link
    name="right_hand_pitch_link">
    <inertial>
      <origin
        xyz="0 -0.00129 -0.0117"
        rpy="0 0 0" />
      <mass
        value="0.0295" />
      <inertia
        ixx="5.38E-6"
        ixy="0"
        ixz="0"
        iyy="1E-5"
        iyz="4.6E-7"
        izz="8.92E-6" />
    </inertial>
    <visual>
      <origin
        xyz="0 0 0"
        rpy="0 0 0" />
      <geometry>
        <mesh
          filename="../meshes/gr1t1/right_hand_pitch_link.STL" />
      </geometry>
      <material
        name="">
        <color
          rgba="0.752941176470588 0.752941176470588 0.752941176470588 1" />
      </material>
    </visual>
    <!-- <collision>
      <origin
        xyz="0 0 0"
        rpy="0 0 0" />
      <geometry>
        <mesh
          filename="../meshes/gr1t1/right_hand_pitch_link.STL" />
      </geometry>
    </collision> -->
  </link>
  <joint
    name="right_wrist_pitch_joint"
    type="revolute">
    <origin
      xyz="0 0 0"
      rpy="0 0 0" />
    <parent
      link="right_hand_roll_link" />
    <child
      link="right_hand_pitch_link" />
    <axis
      xyz="0 1 0" />
    <limit
      lower="-0.61"
      upper="0.61"
      effort="3.95"
      velocity="27.96" />
  </joint>


  <link
    name="right_end_effector_link">
  </link>
  <joint
    name="right_end_effector_joint"
    type="fixed">
    <origin
      xyz="0 0 -0.023"
      rpy="0 0 0" />
    <parent
      link="right_hand_pitch_link" />
    <child
      link="right_end_effector_link" />
  </joint>


  <link
    name="R_hand_base_link">
    <inertial>
      <origin
        xyz="-0.0031 0.00970 -0.0440"
        rpy="0 0 0" />
      <mass
        value="0.281" />
      <inertia
        ixx="0.000343"
        ixy="2.91E-06"
        ixz="9.85E-06"
        iyy="0.000474"
        iyz="1.066E-5"
        izz="0.000217" />
    </inertial>
    <visual>
      <origin
        xyz="0 0 0"
        rpy="0 0 0" />
      <geometry>
        <mesh
          filename="../meshes/fourier_hand_12dof/R_hand_base_link.STL" />
      </geometry>
      <material
        name="">
        <color
          rgba="1 1 1 1" />
      </material>
    </visual>
    <collision>
      <origin
        xyz="0 0 0"
        rpy="0 0 0" />
      <geometry>
        <mesh
          filename="../meshes/fourier_hand_12dof/R_hand_base_link.STL" />
      </geometry>
    </collision>
  </link>
  <joint
    name="R_hand_base_joint"
    type="fixed">
    <origin
      xyz="0 0 0"
      rpy="0 0 0" />
    <parent
      link="right_end_effector_link" />
    <child
      link="R_hand_base_link" />
    <axis
      xyz="0 0 0" />
  </joint>
  <link
    name="R_thumb_proximal_yaw_link">
    <inertial>
      <origin
        xyz="0.010856 -0.001425 -0.000443"
        rpy="0 0 0" />
      <mass
        value="0.04" />
      <inertia
        ixx="4.48E-6"
        ixy="7E-7"
        ixz="7.4E-7"
        iyy="7.55E-6"
        iyz="-6E-8"
        izz="6.88E-06" />
    </inertial>
    <visual>
      <origin
        xyz="0 0 0"
        rpy="0 0 0" />
      <geometry>
        <mesh
          filename="../meshes/fourier_hand_12dof/R_thumb_proximal_yaw_link.STL" />
      </geometry>
      <material
        name="">
        <color
          rgba="1 1 1 1" />
      </material>
    </visual>
    <collision>
      <origin
        xyz="0 0 0"
        rpy="0 0 0" />
      <geometry>
        <mesh
          filename="../meshes/fourier_hand_12dof/R_thumb_proximal_yaw_link.STL" />
      </geometry>
    </collision>
  </link>
  <joint
    name="R_thumb_proximal_yaw_joint"
    type="revolute">
    <origin
      xyz="0.014 0.012 -0.023196"
      rpy="3.1416 0 0" />
    <parent
      link="R_hand_base_link" />
    <child
      link="R_thumb_proximal_yaw_link" />
    <axis
      xyz="0 0 1" />
    <limit
      lower="-1.4661"
      upper="0"
      effort="0"
      velocity="0" />
  </joint>
  <link
    name="R_thumb_proximal_pitch_link">
    <inertial>
      <origin
        xyz="0.026421 -0.001244 3.22E-06"
        rpy="0 0 0" />
      <mass
        value="0.0415" />
      <inertia
        ixx="5.78E-06"
        ixy="4.3E-7"
        ixz="0"
        iyy="1.328E-05"
        iyz="0"
        izz="1.39E-05" />
    </inertial>
    <visual>
      <origin
        xyz="0 0 0"
        rpy="0 0 0" />
      <geometry>
        <mesh
          filename="../meshes/fourier_hand_12dof/R_thumb_proximal_pitch_link.STL" />
      </geometry>
      <material
        name="">
        <color
          rgba="1 1 1 1" />
      </material>
    </visual>
    <collision>
      <origin
        xyz="0 0 0"
        rpy="0 0 0" />
      <geometry>
        <mesh
          filename="../meshes/fourier_hand_12dof/R_thumb_proximal_pitch_link.STL" />
      </geometry>
    </collision>
  </link>
  <joint
    name="R_thumb_proximal_pitch_joint"
    type="revolute">
    <origin
      xyz="0.034322 -0.0054361 -0.001"
      rpy="1.5708 0 -0.15708" />
    <parent
      link="R_thumb_proximal_yaw_link" />
    <child
      link="R_thumb_proximal_pitch_link" />
    <axis
      xyz="0 0 1" />
    <limit
      lower="0"
      upper="1.274"
      effort="0"
      velocity="0" />
  </joint>
  <link
    name="R_thumb_distal_link">
    <inertial>
      <origin
        xyz="0.01864 -0.005137 1.57E-05"
        rpy="0 0 0" />
      <mass
        value="0.0198" />
      <inertia
        ixx="1.15E-06"
        ixy="-6E-8"
        ixz="0"
        iyy="3.43E-06"
        iyz="0"
        izz="3.24E-06" />
    </inertial>
    <visual>
      <origin
        xyz="0 0 0"
        rpy="0 0 0" />
      <geometry>
        <mesh
          filename="../meshes/fourier_hand_12dof/R_thumb_distal_link.STL" />
      </geometry>
      <material
        name="">
        <color
          rgba="1 1 1 1" />
      </material>
    </visual>
    <collision>
      <origin
        xyz="0 0 0"
        rpy="0 0 0" />
      <geometry>
        <mesh
          filename="../meshes/fourier_hand_12dof/R_thumb_distal_link.STL" />
      </geometry>
    </collision>
  </link>
  <joint
    name="R_thumb_distal_joint"
    type="revolute">
    <origin
      xyz="0.05175 0.0050976 0"
      rpy="0 0 0.071635" />
    <parent
      link="R_thumb_proximal_pitch_link" />
    <child
      link="R_thumb_distal_link" />
    <axis
      xyz="0 0 1" />
    <limit
      lower="0"
      upper="1.3614"
      effort="0"
      velocity="0" />
  </joint>

  <link name="R_thumb_tip_link">
    <visual>
      <origin
        xyz="0 0 0"
        rpy="0 0 0" />
      <geometry>
        <sphere radius="0.005" />
      </geometry>
      <material name="yellow">
        <color rgba="0.9 1 0 1" />
      </material>
    </visual>
  </link>
  <joint name="R_thumb_tip_joint" type="fixed">
    <parent link="R_thumb_distal_link" />
    <child link="R_thumb_tip_link" />
    <origin rpy="0 0 0" xyz="0.035 -0.001 0" />
  </joint>

  <link
    name="R_index_metacarpal_link">
    <inertial>
      <origin
        xyz="-0.00913 0.003944 0"
        rpy="0 0 0" />
      <mass
        value="0.0321" />
      <inertia
        ixx="1.09E-06"
        ixy="1.85E-06"
        ixz="0"
        iyy="7.7E-06"
        iyz="0"
        izz="7.94E-06" />
    </inertial>
    <visual>
      <origin
        xyz="0 0 0"
        rpy="0 0 0" />
      <geometry>
        <mesh
          filename="../meshes/fourier_hand_12dof/R_index_metacarpal_link.STL" />
      </geometry>
      <material
        name="">
        <color
          rgba="1 1 1 1" />
      </material>
    </visual>
    <collision>
      <origin
        xyz="0 0 0"
        rpy="0 0 0" />
      <geometry>
        <mesh
          filename="../meshes/fourier_hand_12dof/R_index_metacarpal_link.STL" />
      </geometry>
    </collision>
  </link>
  <joint
    name="R_index_metacarpal_joint"
    type="revolute">
    <origin
      xyz="0.0305 0.0118 -0.088496"
      rpy="-3.1416 1.4588 0" />
    <parent
      link="R_hand_base_link" />
    <child
      link="R_index_metacarpal_link" />
    <axis
      xyz="0 1 0" />
    <limit
      lower="-0.0524"
      upper="0.2618"
      effort="0"
      velocity="0" />
  </joint>
  <link
    name="R_index_proximal_link">
    <inertial>
      <origin
        xyz="0.017361 0.0045 0"
        rpy="0 0 0" />
      <mass
        value="0.0358" />
      <inertia
        ixx="3.91E-06"
        ixy="-2.7E-7"
        ixz="0"
        iyy="7.43E-06"
        iyz="0"
        izz="7.77E-06" />
    </inertial>
    <visual>
      <origin
        xyz="0 0 0"
        rpy="0 0 0" />
      <geometry>
        <mesh
          filename="../meshes/fourier_hand_12dof/R_index_proximal_link.STL" />
      </geometry>
      <material
        name="">
        <color
          rgba="1 1 1 1" />
      </material>
    </visual>
    <collision>
      <origin
        xyz="0 0 0"
        rpy="0 0 0" />
      <geometry>
        <mesh
          filename="../meshes/fourier_hand_12dof/R_index_proximal_link.STL" />
      </geometry>
    </collision>
  </link>
  <joint
    name="R_index_proximal_joint"
    type="revolute">
    <origin
      xyz="0.012 0.0005 0"
      rpy="0 0 0" />
    <parent
      link="R_index_metacarpal_link" />
    <child
      link="R_index_proximal_link" />
    <axis
      xyz="0 0 1" />
    <limit
      lower="-1.5185"
      upper="0"
      effort="0"
      velocity="0" />
  </joint>
  <link
    name="R_index_intermediate_link">
    <inertial>
      <origin
        xyz="0.0224 0.002908 1.624E-5"
        rpy="0 0 0" />
      <mass
        value="0.0199" />
      <inertia
        ixx="8.4E-7"
        ixy="4E-8"
        ixz="1E-8"
        iyy="4.82E-6"
        iyz="0"
        izz="4.72E-6" />
    </inertial>
    <visual>
      <origin
        xyz="0 0 0"
        rpy="0 0 0" />
      <geometry>
        <mesh
          filename="../meshes/fourier_hand_12dof/R_index_intermediate_link.STL" />
      </geometry>
      <material
        name="">
        <color
          rgba="1 1 1 1" />
      </material>
    </visual>
    <collision>
      <origin
        xyz="0 0 0"
        rpy="0 0 0" />
      <geometry>
        <mesh
          filename="../meshes/fourier_hand_12dof/R_index_intermediate_link.STL" />
      </geometry>
    </collision>
  </link>
  <joint
    name="R_index_intermediate_joint"
    type="revolute">
    <origin
      xyz="0.038948 0.0020202 0"
      rpy="0 0 -0.19585" />
    <parent
      link="R_index_proximal_link" />
    <child
      link="R_index_intermediate_link" />
    <axis
      xyz="0 0 1" />
    <limit
      lower="-1.5708"
      upper="0"
      effort="0"
      velocity="0" />
  </joint>

  <link name="R_index_tip_link">
    <visual>
      <origin
        xyz="0 0 0"
        rpy="0 0 0" />
      <geometry>
        <sphere radius="0.005" />
      </geometry>
      <material name="yellow">
        <color rgba="0.9 1 0 1" />
      </material>
    </visual>
  </link>
  <joint name="R_index_tip_joint" type="fixed">
    <parent link="R_index_intermediate_link" />
    <child link="R_index_tip_link" />
    <origin rpy="0 0 0" xyz="0.047 0.001 0" />
  </joint>

  <link
    name="R_middle_proximal_link">
    <inertial>
      <origin
        xyz="0.017361 0.0045 0"
        rpy="0 0 0" />
      <mass
        value="0.0358" />
      <inertia
        ixx="3.91E-06"
        ixy="-2.7E-7"
        ixz="0"
        iyy="7.43E-06"
        iyz="0"
        izz="7.77E-06" />
    </inertial>
    <visual>
      <origin
        xyz="0 0 0"
        rpy="0 0 0" />
      <geometry>
        <mesh
          filename="../meshes/fourier_hand_12dof/R_middle_proximal_link.STL" />
      </geometry>
      <material
        name="">
        <color
          rgba="1 1 1 1" />
      </material>
    </visual>
    <collision>
      <origin
        xyz="0 0 0"
        rpy="0 0 0" />
      <geometry>
        <mesh
          filename="../meshes/fourier_hand_12dof/R_middle_proximal_link.STL" />
      </geometry>
    </collision>
  </link>
  <joint
    name="R_middle_proximal_joint"
    type="revolute">
    <origin
      xyz="0.0095 0.0113 -0.10005"
      rpy="3.1416 1.5708 0" />
    <parent
      link="R_hand_base_link" />
    <child
      link="R_middle_proximal_link" />
    <axis
      xyz="0 0 1" />
    <limit
      lower="-1.5185"
      upper="0"
      effort="0"
      velocity="0" />
  </joint>
  <link
    name="R_middle_intermediate_link">
    <inertial>
      <origin
        xyz="0.02470 0.003230 -1.394E-5"
        rpy="0 0 0" />
      <mass
        value="0.0234" />
      <inertia
        ixx="1.01E-6"
        ixy="-4E-8"
        ixz="1E-8"
        iyy="6.94E-6"
        iyz="0"
        izz="6.82E-6" />
    </inertial>
    <visual>
      <origin
        xyz="0 0 0"
        rpy="0 0 0" />
      <geometry>
        <mesh
          filename="../meshes/fourier_hand_12dof/R_middle_intermediate_link.STL" />
      </geometry>
      <material
        name="">
        <color
          rgba="1 1 1 1" />
      </material>
    </visual>
    <collision>
      <origin
        xyz="0 0 0"
        rpy="0 0 0" />
      <geometry>
        <mesh
          filename="../meshes/fourier_hand_12dof/R_middle_intermediate_link.STL" />
      </geometry>
    </collision>
  </link>
  <joint
    name="R_middle_intermediate_joint"
    type="revolute">
    <origin
      xyz="0.038948 0.0020202 0"
      rpy="0 0 -0.19218" />
    <parent
      link="R_middle_proximal_link" />
    <child
      link="R_middle_intermediate_link" />
    <axis
      xyz="0 0 1" />
    <limit
      lower="-1.5708"
      upper="0"
      effort="0"
      velocity="0" />
  </joint>

  <link name="R_middle_tip_link">
    <visual>
      <origin
        xyz="0 0 0"
        rpy="0 0 0" />
      <geometry>
        <sphere radius="0.005" />
      </geometry>
      <material name="yellow">
        <color rgba="0.9 1 0 1" />
      </material>
    </visual>
  </link>
  <joint name="R_middle_tip_joint" type="fixed">
    <parent link="R_middle_intermediate_link" />
    <child link="R_middle_tip_link" />
    <origin rpy="0 0 0" xyz="0.055 0.0012 0" />
  </joint>


  <link
    name="R_ring_proximal_link">
    <inertial>
      <origin
        xyz="0.017361 0.0045 0"
        rpy="0 0 0" />
      <mass
        value="0.035778" />
      <inertia
        ixx="3.91E-06"
        ixy="-2.7E-7"
        ixz="0"
        iyy="7.43E-06"
        iyz="0"
        izz="7.77E-06" />
    </inertial>
    <visual>
      <origin
        xyz="0 0 0"
        rpy="0 0 0" />
      <geometry>
        <mesh
          filename="../meshes/fourier_hand_12dof/R_ring_proximal_link.STL" />
      </geometry>
      <material
        name="">
        <color
          rgba="1 1 1 1" />
      </material>
    </visual>
    <collision>
      <origin
        xyz="0 0 0"
        rpy="0 0 0" />
      <geometry>
        <mesh
          filename="../meshes/fourier_hand_12dof/R_ring_proximal_link.STL" />
      </geometry>
    </collision>
  </link>
  <joint
    name="R_ring_proximal_joint"
    type="revolute">
    <origin
      xyz="-0.010987 0.0113 -0.10003"
      rpy="0 1.5184 3.1416" />
    <parent
      link="R_hand_base_link" />
    <child
      link="R_ring_proximal_link" />
    <axis
      xyz="0 0 1" />
    <limit
      lower="-1.5185"
      upper="0"
      effort="0"
      velocity="0" />
  </joint>
  <link
    name="R_ring_intermediate_link">
    <inertial>
      <origin
        xyz="0.0224 0.002908 1.624E-5"
        rpy="0 0 0" />
      <mass
        value="0.0199" />
      <inertia
        ixx="8.4E-7"
        ixy="4E-8"
        ixz="1E-8"
        iyy="4.82E-6"
        iyz="0"
        izz="4.72E-6" />
    </inertial>
    <visual>
      <origin
        xyz="0 0 0"
        rpy="0 0 0" />
      <geometry>
        <mesh
          filename="../meshes/fourier_hand_12dof/R_ring_intermediate_link.STL" />
      </geometry>
      <material
        name="">
        <color
          rgba="1 1 1 1" />
      </material>
    </visual>
    <collision>
      <origin
        xyz="0 0 0"
        rpy="0 0 0" />
      <geometry>
        <mesh
          filename="../meshes/fourier_hand_12dof/R_ring_intermediate_link.STL" />
      </geometry>
    </collision>
  </link>
  <joint
    name="R_ring_intermediate_joint"
    type="revolute">
    <origin
      xyz="0.038948 0.0020202 0"
      rpy="0 0 -0.19585" />
    <parent
      link="R_ring_proximal_link" />
    <child
      link="R_ring_intermediate_link" />
    <axis
      xyz="0 0 1" />
    <limit
      lower="-1.5708"
      upper="0"
      effort="0"
      velocity="0" />
  </joint>

  <link name="R_ring_tip_link">
    <visual>
      <origin
        xyz="0 0 0"
        rpy="0 0 0" />
      <geometry>
        <sphere radius="0.005" />
      </geometry>
      <material name="green">
        <color rgba="0.9 1 0 1" />
      </material>
    </visual>
  </link>
  <joint name="R_ring_tip_joint" type="fixed">
    <parent link="R_ring_intermediate_link" />
    <child link="R_ring_tip_link" />
    <origin rpy="0 0 0" xyz="0.045 0.001 0" />
  </joint>


  <link
    name="R_pinky_proximal_link">
    <inertial>
      <origin
        xyz="0.017361 0.0045 0"
        rpy="0 0 0" />
      <mass
        value="0.0358" />
      <inertia
        ixx="3.91E-06"
        ixy="-2.7E-7"
        ixz="0"
        iyy="7.43E-06"
        iyz="0"
        izz="7.77E-06" />
    </inertial>
    <visual>
      <origin
        xyz="0 0 0"
        rpy="0 0 0" />
      <geometry>
        <mesh
          filename="../meshes/fourier_hand_12dof/R_pinky_proximal_link.STL" />
      </geometry>
      <material
        name="">
        <color
          rgba="1 1 1 1" />
      </material>
    </visual>
    <collision>
      <origin
        xyz="0 0 0"
        rpy="0 0 0" />
      <geometry>
        <mesh
          filename="../meshes/fourier_hand_12dof/R_pinky_proximal_link.STL" />
      </geometry>
    </collision>
  </link>
  <joint
    name="R_pinky_proximal_joint"
    type="revolute">
    <origin
      xyz="-0.031472 0.0113 -0.099245"
      rpy="0 1.4661 3.1416" />
    <parent
      link="R_hand_base_link" />
    <child
      link="R_pinky_proximal_link" />
    <axis
      xyz="0 0 1" />
    <limit
      lower="-1.5185"
      upper="0"
      effort="0"
      velocity="0" />
  </joint>
  <link
    name="R_pinky_intermediate_link">
    <inertial>
      <origin
        xyz="0.01875 0.00296 5.23E-6"
        rpy="0 0 0" />
      <mass
        value="0.00812" />
      <inertia
        ixx="6.7E-7"
        ixy="5E-8"
        ixz="1E-8"
        iyy="2.69E-06"
        iyz="0"
        izz="2.6E-06" />
    </inertial>
    <visual>
      <origin
        xyz="0 0 0"
        rpy="0 0 0" />
      <geometry>
        <mesh
          filename="../meshes/fourier_hand_12dof/R_pinky_intermediate_link.STL" />
      </geometry>
      <material
        name="">
        <color
          rgba="1 1 1 1" />
      </material>
    </visual>
    <collision>
      <origin
        xyz="0 0 0"
        rpy="0 0 0" />
      <geometry>
        <mesh
          filename="../meshes/fourier_hand_12dof/R_pinky_intermediate_link.STL" />
      </geometry>
    </collision>
  </link>
  <joint
    name="R_pinky_intermediate_joint"
    type="revolute">
    <origin
      xyz="0.038948 0.0020202 0"
      rpy="0 -0.0013299 -0.20067" />
    <parent
      link="R_pinky_proximal_link" />
    <child
      link="R_pinky_intermediate_link" />
    <axis
      xyz="0.0013299 0 1" />
    <limit
      lower="-1.5708"
      upper="0"
      effort="0"
      velocity="0" />
  </joint>

  <link name="R_pinky_tip_link">
    <visual>
      <origin
        xyz="0 0 0"
        rpy="0 0 0" />
      <geometry>
        <sphere radius="0.005" />
      </geometry>
      <material name="yellow">
        <color rgba="0.9 1 0 1" />
      </material>
    </visual>
  </link>
  <joint name="R_pinky_tip_joint" type="fixed">
    <parent link="R_pinky_intermediate_link" />
    <child link="R_pinky_tip_link" />
    <origin rpy="0 0 0" xyz="0.038 0.001 0" />
  </joint>



  <link
    name="head_yaw_link">
    <inertial>
      <origin
        xyz="-0.0001367 -0.0001340 0.05313"
        rpy="0 0 0" />
      <mass
        value="0.45" />
      <inertia
        ixx="0.0007357"
        ixy="-8.7E-7"
        ixz="1.075E-5"
        iyy="0.0007692"
        iyz="1.54E-6"
        izz="0.0001691" />
    </inertial>
    <visual>
      <origin
        xyz="0 0 0"
        rpy="0 0 0" />
      <geometry>
        <mesh
          filename="../meshes/gr1t1/head_yaw_link.STL" />
      </geometry>
      <material
        name="">
        <color
          rgba="0.752941176470588 0.752941176470588 0.752941176470588 1" />
      </material>
    </visual>
    <!-- <collision>
      <origin
        xyz="0 0 0"
        rpy="0 0 0" />
      <geometry>
        <mesh
          filename="../meshes/gr1t1/head_yaw_link.STL" />
      </geometry>
    </collision> -->
  </link>
  <joint
    name="head_yaw_joint"
    type="revolute">
    <origin
      xyz="0 0 0.17339"
      rpy="0 0 0" />
    <parent
      link="torso_link" />
    <child
      link="head_yaw_link" />
    <axis
      xyz="0 0 1" />
    <limit
      lower="-2.71"
      upper="2.71"
      effort="3.95"
      velocity="27.96" />
  </joint>
  <link
    name="head_roll_link">
    <inertial>
      <origin
        xyz="-3E-5 0.01418 -0.00267"
        rpy="0 0 0" />
      <mass
        value="0.1267" />
      <inertia
        ixx="1.95e-5"
        ixy="-1.57e-6"
        ixz="-1.33e-6"
        iyy="1.746e-5"
        iyz="-1.44e-6"
        izz="1.961e-5" />
    </inertial>
    <visual>
      <origin
        xyz="0 0 0"
        rpy="0 0 0" />
      <geometry>
        <mesh
          filename="../meshes/gr1t1/head_roll_link.STL" />
      </geometry>
      <material
        name="">
        <color
          rgba="0.752941176470588 0.752941176470588 0.752941176470588 1" />
      </material>
    </visual>
    <!-- <collision>
      <origin
        xyz="0 0 0"
        rpy="0 0 0" />
      <geometry>
        <mesh
          filename="../meshes/gr1t1/head_roll_link.STL" />
      </geometry>
    </collision> -->
  </link>
  <joint
    name="head_roll_joint"
    type="revolute">
    <origin
      xyz="0 -0.00105 0.14195"
      rpy="0 0 0" />
    <parent
      link="head_yaw_link" />
    <child
      link="head_roll_link" />
    <axis
      xyz="1 0 0" />
    <limit
      lower="-0.35"
      upper="0.35"
      effort="3.95"
      velocity="27.96" />
  </joint>
  <link
    name="head_pitch_link">
    <inertial>
      <origin
        xyz="0.02654 0.002225 -0.01063"
        rpy="0 0 0" />
      <mass
        value="0.45" />
      <inertia
        ixx="0.001107"
        ixy="1.689E-5"
        ixz="0.0002775"
        iyy="0.001414"
        iyz="-8.33E-6"
        izz="0.001518" />
    </inertial>
    <visual>
      <origin
        xyz="0 0 0"
        rpy="0 0 0" />
      <geometry>
        <mesh
          filename="../meshes/gr1t1/head_pitch_link.STL" />
      </geometry>
      <material
        name="">
        <color
          rgba="0.752941176470588 0.752941176470588 0.752941176470588 1" />
      </material>
    </visual>
    <collision name="head_pitch_link.STL">
      <origin xyz="0.018281080808229797 0 -0.01336201800288447" rpy="0 0 0"/>
      <geometry>
        <sphere radius="0.1086868692306477"/>
      </geometry>
    </collision>
  </link>
  <joint
    name="head_pitch_joint"
    type="revolute">
    <origin
      xyz="0 0 0"
      rpy="0 0 0" />
    <parent
      link="head_roll_link" />
    <child
      link="head_pitch_link" />
    <axis
      xyz="0 1 0" />
    <limit
      lower="-0.87"
      upper="0.87"
      effort="3.95"
      velocity="27.96" />
  </joint>
  <link
    name="IMU_link">
    <inertial>
      <origin
        xyz="-0.0003275 0 -0.005737"
        rpy="0 0 0" />
      <mass
        value="0.05" />
      <inertia
        ixx="1.122E-5"
        ixy="0"
        ixz="-1.8E-7"
        iyy="1.199E-5"
        iyz="0"
        izz="1.442E-5" />
    </inertial>
    <visual>
      <origin
        xyz="0 0 0"
        rpy="0 0 0" />
      <geometry>
        <mesh
          filename="../meshes/gr1t1/IMU_link.STL" />
      </geometry>
      <material
        name="">
        <color
          rgba="0.752941176470588 0.752941176470588 0.752941176470588 1" />
      </material>
    </visual>
    <!-- <collision>
      <origin
        xyz="0 0 0"
        rpy="0 0 0" />
      <geometry>
        <mesh
          filename="../meshes/gr1t1/IMU_link.STL" />
      </geometry>
    </collision> -->
  </link>
  <joint
    name="IMU_joint"
    type="fixed">
    <origin
      xyz="-0.064772 0 -0.0596"
      rpy="0 0 0" />
    <parent
      link="base_link" />
    <child
      link="IMU_link" />
    <axis
      xyz="0 0 0" />
  </joint>
</robot>
